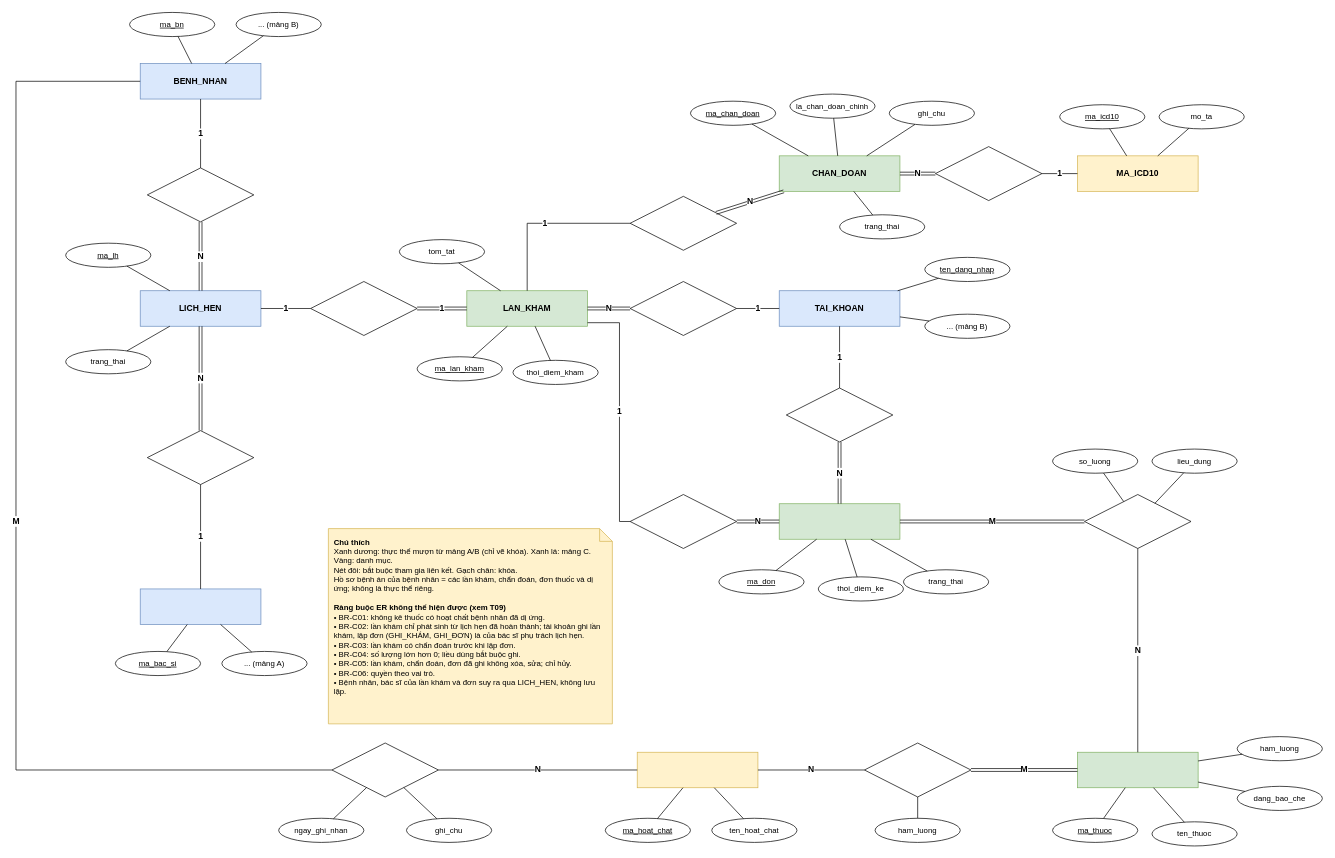
Image size: 1335x858. Some labels were removed from this diagram. Here are the shapes that lost their labels. From the top down, the centre of each, then its label:
At point 988,173: "MÃ_HÓA".
At point 200,194: "ĐẶT".
At point 683,223: "CÓ_CHẨN_ĐOÁN".
At point 363,308: "PHÁT_SINH".
At point 683,308: "GHI_KHÁM".
At point 839,414: "GHI_ĐƠN".
At point 200,457: "PHỤ_TRÁCH".
At point 683,521: "LẬP_ĐƠN".
At point 839,521: "DON_THUOC".
At point 1137,521: "KÊ".
At point 200,606: "BAC_SI".
At point 384,769: "DỊ_ỨNG".
At point 697,770: "HOAT_CHAT".
At point 917,769: "CHỨA".
At point 1137,770: "THUOC".
